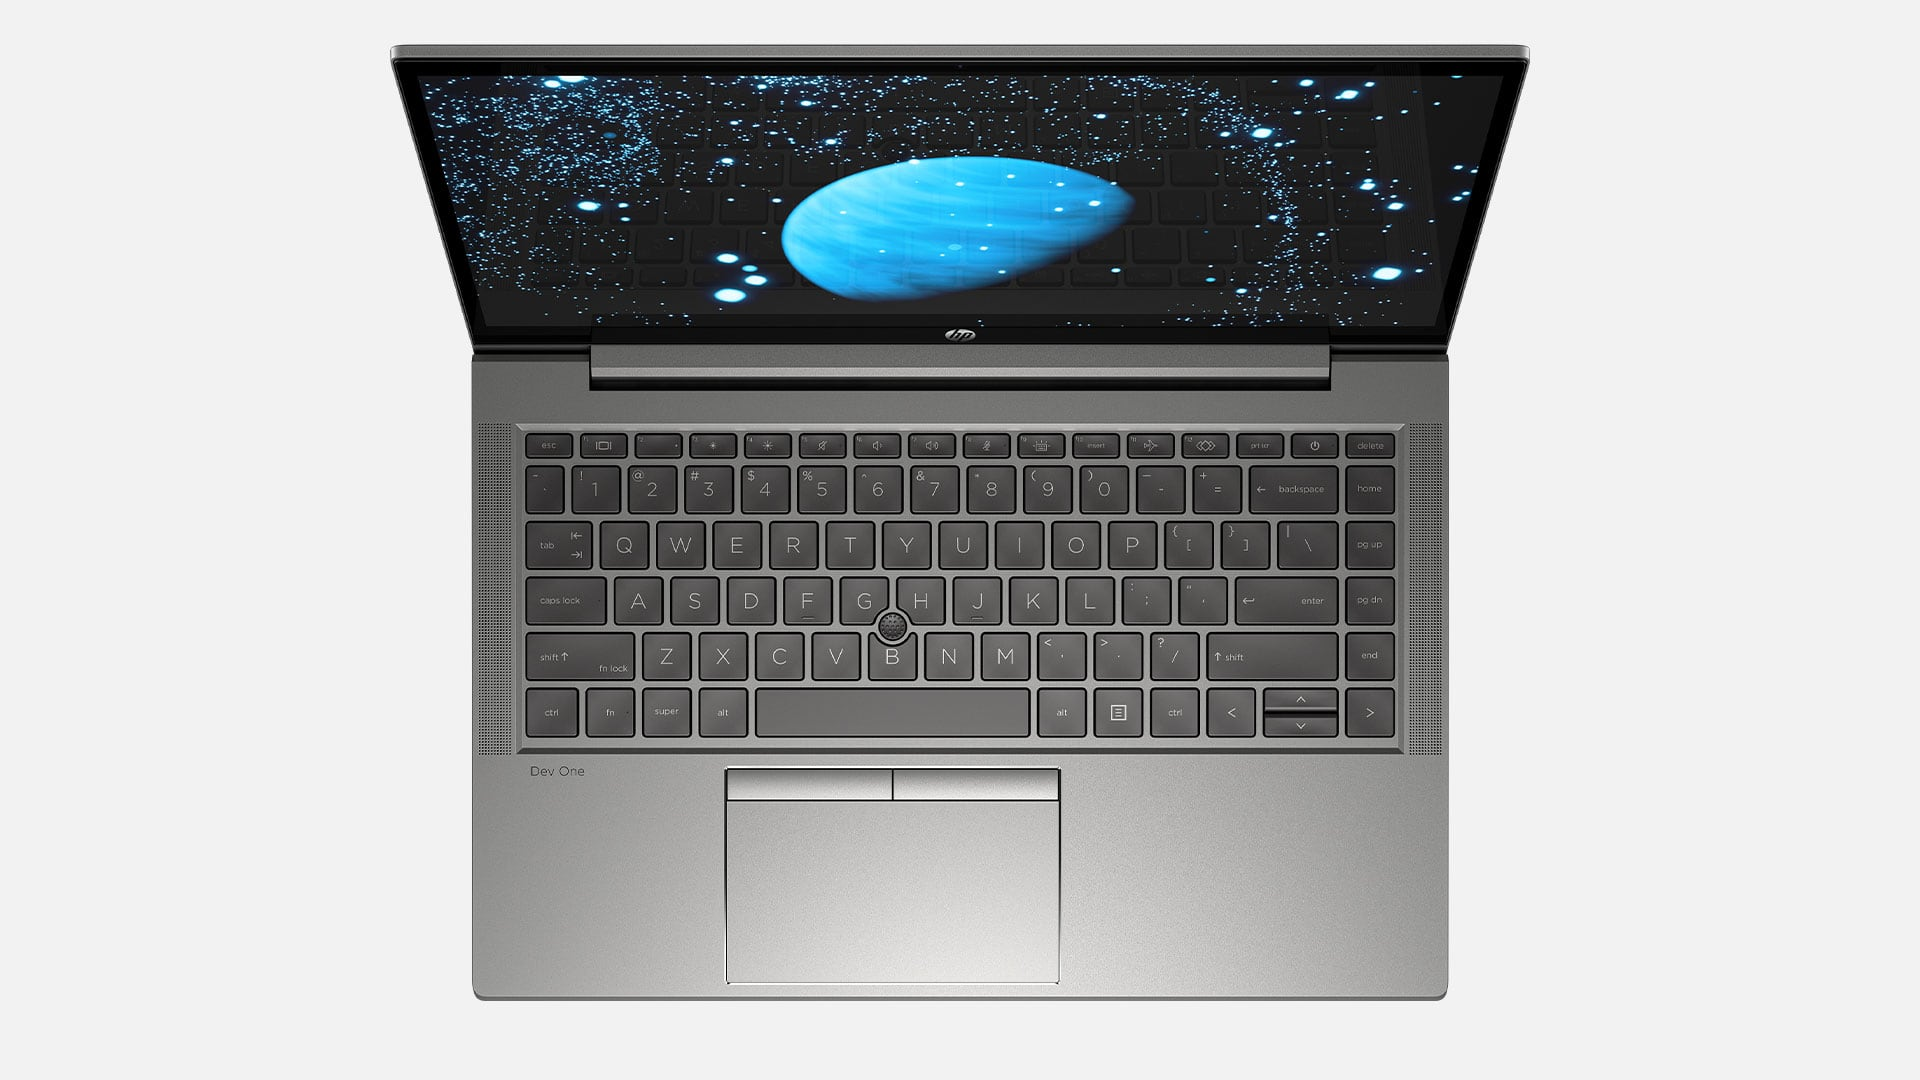laptop: (318, 18, 1571, 1050)
